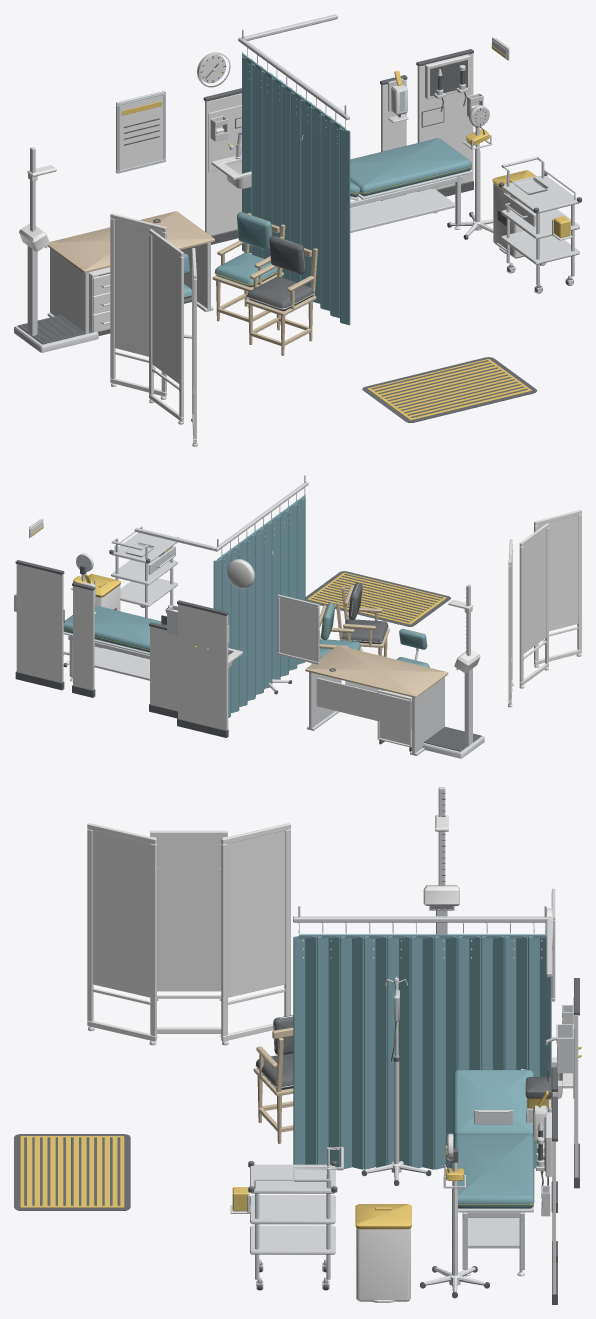
File: clinic-and-veterinary-practice-consultin-4b5ee682-starter-scene__16833.glb
The picture shows the model from 3 angles, top to bottom: view 1: azimuth 30°, elevation 25°; view 2: azimuth 150°, elevation 25°; view 3: azimuth 270°, elevation 25°; orthographic projection. The views are drawn at different scales.
Parts seen in each view (by area): view 1: 005-cubicle-curtain-track/1, 015-folding-screen-divider/0, 011-treatment-trolley/0, 009-clinical-hand-wash-basin/0, 004-examination-couch/1, 019-practice-floor-mat/0, 019-practice-floor-mat/1, 006-diagnostic-wall-set/0, 004-examination-couch/0, 000-clinician-desk/0, 000-clinician-desk/1, 016-wall-poster-frame/1 (+14 smaller); view 2: 005-cubicle-curtain-track/1, 015-folding-screen-divider/0, 009-clinical-hand-wash-basin/0, 006-diagnostic-wall-set/0, 000-clinician-desk/1, 000-clinician-desk/2, 011-treatment-trolley/0, 019-practice-floor-mat/0, 019-practice-floor-mat/1, 000-clinician-desk/0, 007-hand-gel-dispenser/0, 004-examination-couch/1 (+18 smaller); view 3: 005-cubicle-curtain-track/1, 015-folding-screen-divider/0, 004-examination-couch/1, 011-treatment-trolley/0, 019-practice-floor-mat/1, 019-practice-floor-mat/0, 010-clinical-waste-bin/0, 004-examination-couch/0, 005-cubicle-curtain-track/0, 003-patient-chair-dark/0, 012-blood-pressure-stand/0, 010-clinical-waste-bin/lid (+9 smaller).
Boxes of the visible parts, bbox=[...] form: 005-cubicle-curtain-track/1: bbox=[242, 52, 350, 325]; 015-folding-screen-divider/0: bbox=[110, 213, 196, 443]; 011-treatment-trolley/0: bbox=[501, 156, 579, 293]; 009-clinical-hand-wash-basin/0: bbox=[205, 93, 251, 235]; 004-examination-couch/1: bbox=[350, 138, 471, 197]; 019-practice-floor-mat/0: bbox=[362, 357, 537, 422]; 019-practice-floor-mat/1: bbox=[367, 358, 531, 420]; 006-diagnostic-wall-set/0: bbox=[417, 53, 478, 191]; 004-examination-couch/0: bbox=[350, 170, 473, 232]; 000-clinician-desk/0: bbox=[47, 242, 213, 333]; 000-clinician-desk/1: bbox=[47, 211, 214, 272]; 016-wall-poster-frame/1: bbox=[120, 95, 163, 170]; 005-cubicle-curtain-track/1: bbox=[213, 494, 305, 717]; 015-folding-screen-divider/0: bbox=[508, 509, 581, 704]; 009-clinical-hand-wash-basin/0: bbox=[178, 604, 242, 729]; 006-diagnostic-wall-set/0: bbox=[16, 561, 63, 682]; 000-clinician-desk/1: bbox=[305, 645, 448, 697]; 000-clinician-desk/2: bbox=[316, 677, 411, 747]; 011-treatment-trolley/0: bbox=[111, 526, 177, 617]; 019-practice-floor-mat/0: bbox=[305, 571, 450, 626]; 019-practice-floor-mat/1: bbox=[307, 572, 446, 624]; 000-clinician-desk/0: bbox=[307, 672, 444, 755]; 007-hand-gel-dispenser/0: bbox=[73, 582, 95, 689]; 004-examination-couch/1: bbox=[63, 605, 161, 652]; 005-cubicle-curtain-track/1: bbox=[293, 934, 551, 1169]; 015-folding-screen-divider/0: bbox=[87, 823, 290, 1041]; 004-examination-couch/1: bbox=[453, 1070, 534, 1208]; 011-treatment-trolley/0: bbox=[230, 1146, 343, 1289]; 019-practice-floor-mat/1: bbox=[20, 1136, 124, 1207]; 019-practice-floor-mat/0: bbox=[14, 1134, 130, 1210]; 010-clinical-waste-bin/0: bbox=[356, 1228, 410, 1301]; 004-examination-couch/0: bbox=[453, 1137, 533, 1276]; 005-cubicle-curtain-track/0: bbox=[293, 906, 552, 977]; 003-patient-chair-dark/0: bbox=[253, 1027, 293, 1143]; 012-blood-pressure-stand/0: bbox=[423, 1133, 486, 1291]; 010-clinical-waste-bin/lid: bbox=[355, 1204, 411, 1229].
Bounding box in the file's own units: 5.33 × 2.23 × 4.38.
